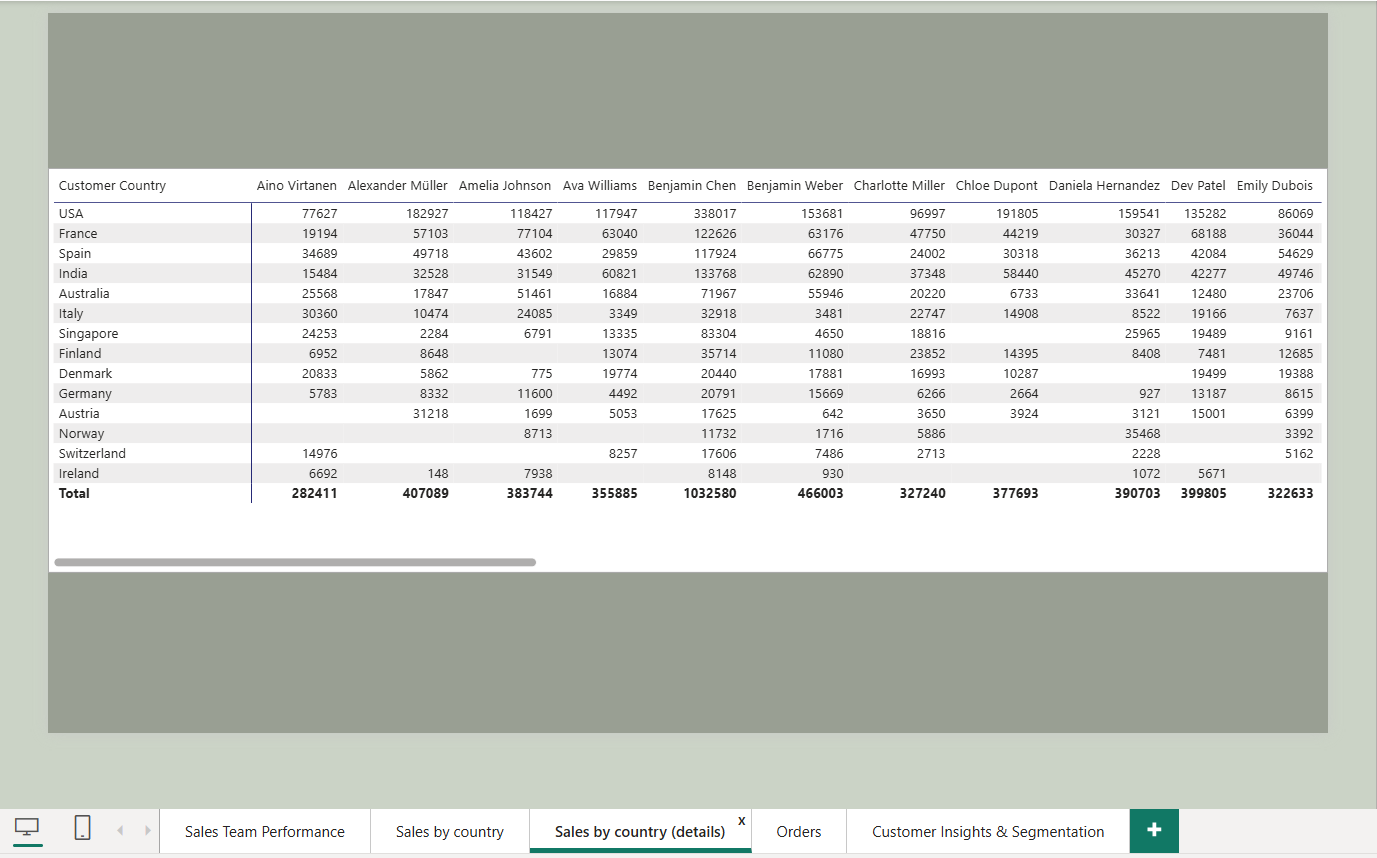

The page's visual inventory and layout, read from the dashboard file:
{"tool":"powerbi","page":{"name":"Sales by country (details)","canvas":[1280,720],"ordinal":2},"visuals":[{"type":"pivotTable","fields":{"Columns":["Orders.Sales Manager"],"Values":["Orders.Order Value"],"Rows":["Orders.Customer Country"]},"box":[0,155,1280,405],"z":0}]}

Visuals, with their boxes on the page's 1280x720 design canvas (x1, y1, x2, y2). These are canvas units, not pixel positions in the 1377x858 screenshot, which may show the page scaled, cropped or inside an application window:
pivotTable - Orders.Sales Manager x Orders.Order Value: {"left": 0, "top": 155, "right": 1280, "bottom": 560}
